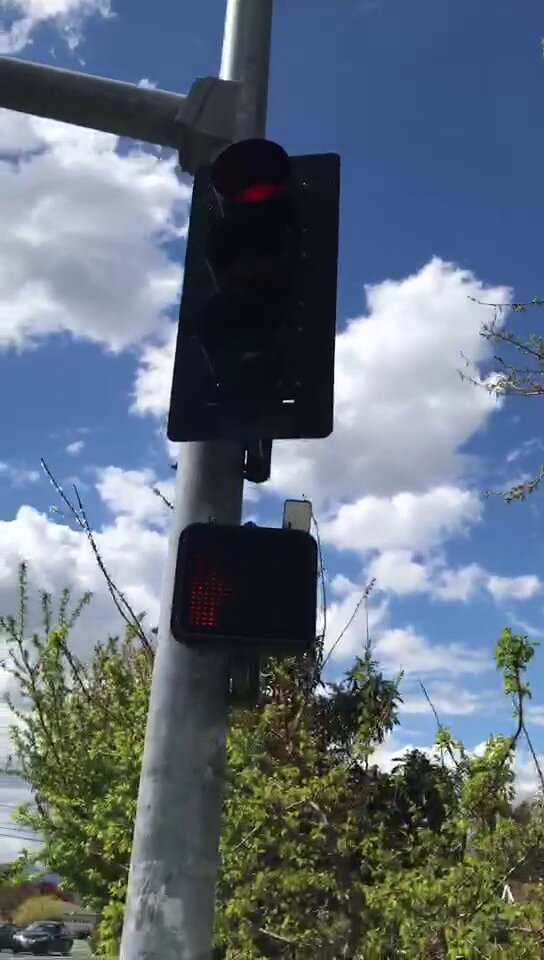red_light: (198, 157, 331, 435)
